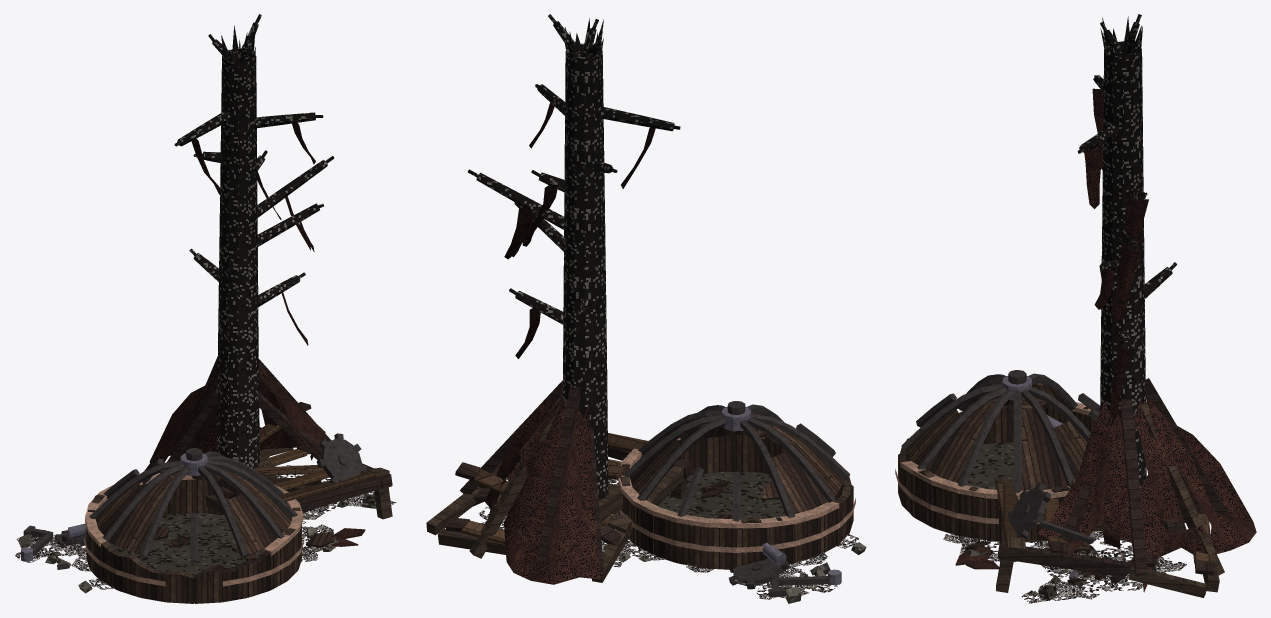
Rendered from CreInvent04a.glb.
3 views of the same model, side by side, from view 1: azimuth 30°, elevation 25°; view 2: azimuth 150°, elevation 25°; view 3: azimuth 270°, elevation 25° (orthographic). The views are drawn at different scales.
Parts seen in each view (by area): view 1: i4_stave; view 2: i4_stave; view 3: i4_stave.
Part boxes in pixels (box(x1,y1,x2,y2)): i4_stave: box(15, 14, 396, 603); i4_stave: box(426, 14, 866, 603); i4_stave: box(895, 14, 1256, 603).
Size of the model in its own units: 8.55 by 11.5 by 7.04.
10 materials, 10 textured.
